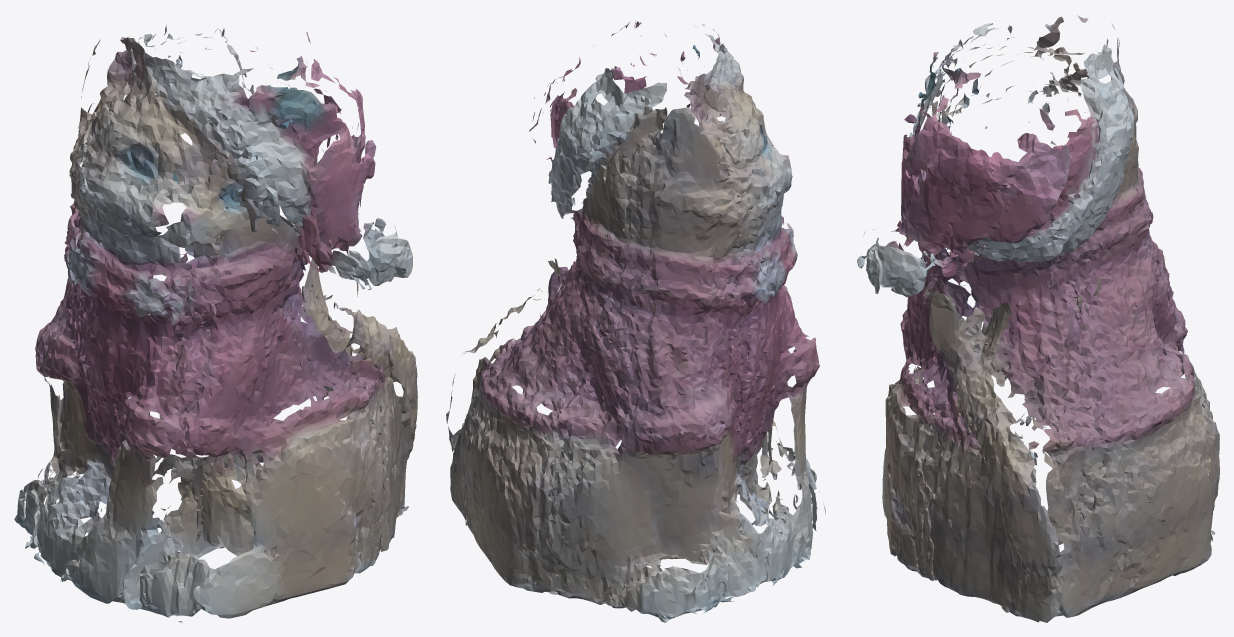
File: finished_model_20260520_104408.glb
3 renders of one model, left to right at view 1: azimuth 30°, elevation 25°; view 2: azimuth 150°, elevation 25°; view 3: azimuth 270°, elevation 25°, orthographic. The views are drawn at different scales.
Visible parts, largest first — view 1: finished_model_20260520_104408.ply; view 2: finished_model_20260520_104408.ply; view 3: finished_model_20260520_104408.ply.
Boxes of the visible parts, x1,y1,x2,y2 form: finished_model_20260520_104408.ply: [14, 25, 417, 622]; finished_model_20260520_104408.ply: [446, 21, 825, 622]; finished_model_20260520_104408.ply: [857, 15, 1219, 622].
Bounding box in the file's own units: 0.0813 × 0.1112 × 0.074.
